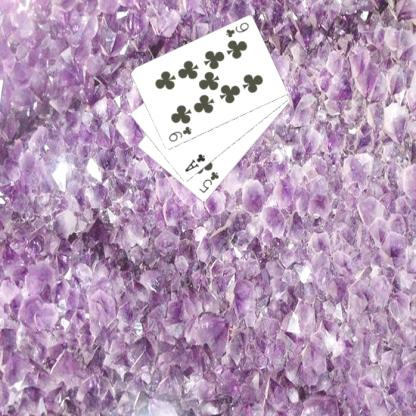5C: (196, 169, 221, 195)
9C: (166, 123, 193, 144), (223, 20, 250, 39)
AC: (182, 151, 207, 173)
